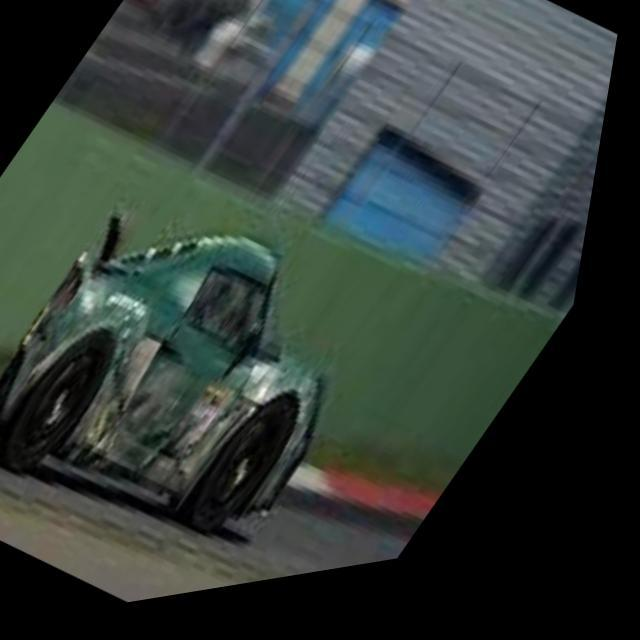crack: (21, 288, 347, 527)
